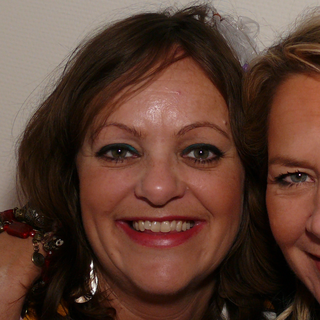eye: (178, 140, 225, 166), (96, 140, 143, 164), (276, 166, 313, 189)
